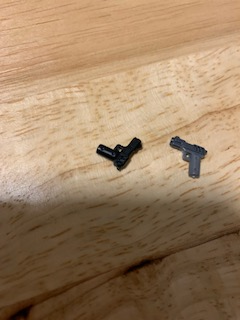pistol: (166, 134, 211, 184), (96, 132, 145, 172)
